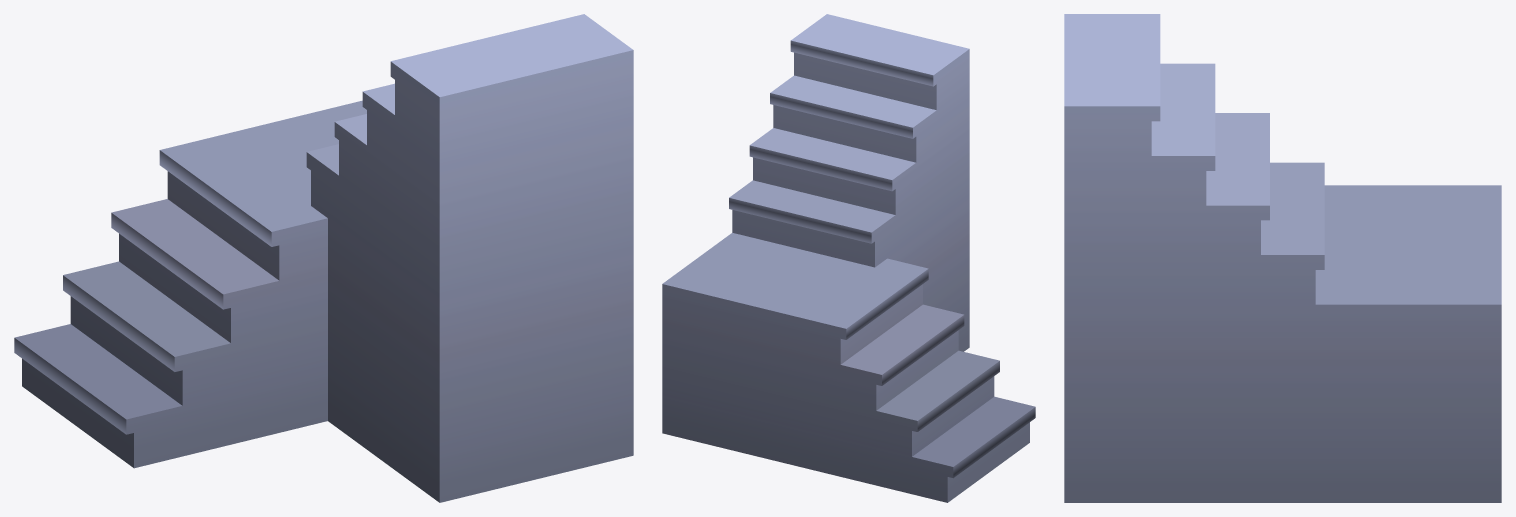
File: stairs-stone-corner.glb
3 views of the same model, side by side, from view 1: azimuth 30°, elevation 25°; view 2: azimuth 150°, elevation 25°; view 3: azimuth 270°, elevation 25° (orthographic). The views are drawn at different scales.
Parts seen in each view (by area): view 1: stairs-stone-corner; view 2: stairs-stone-corner; view 3: stairs-stone-corner.
Part boxes in pixels (box(x1,y1,x2,y2)): stairs-stone-corner: box(14, 14, 633, 502); stairs-stone-corner: box(662, 14, 1035, 502); stairs-stone-corner: box(1064, 14, 1501, 502).
Size of the model in its own units: 1.02 by 1 by 1.
1 material, 1 textured.
